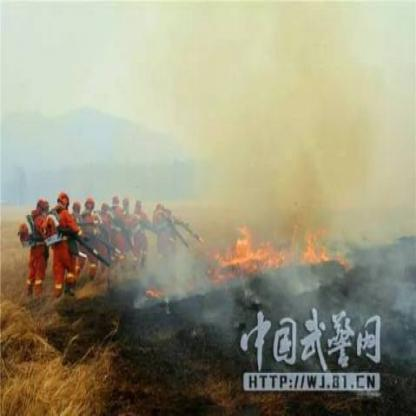fire: (213, 220, 347, 282)
